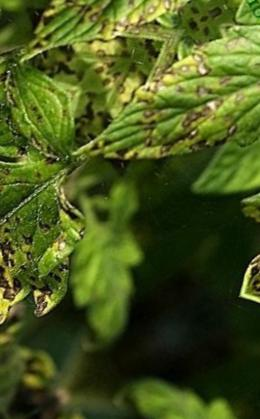Tomato Septoria leaf spot: (53, 11, 260, 226), (0, 123, 139, 371), (174, 146, 260, 310)
